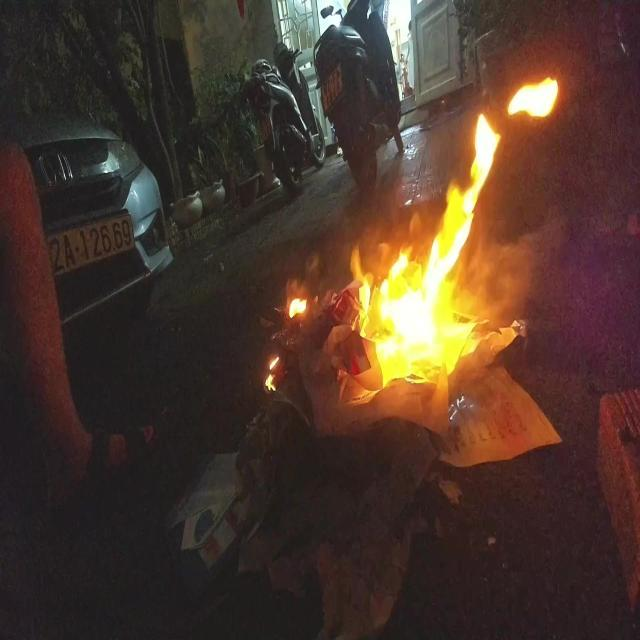Fire: (344, 75, 567, 388), (286, 295, 308, 319)
